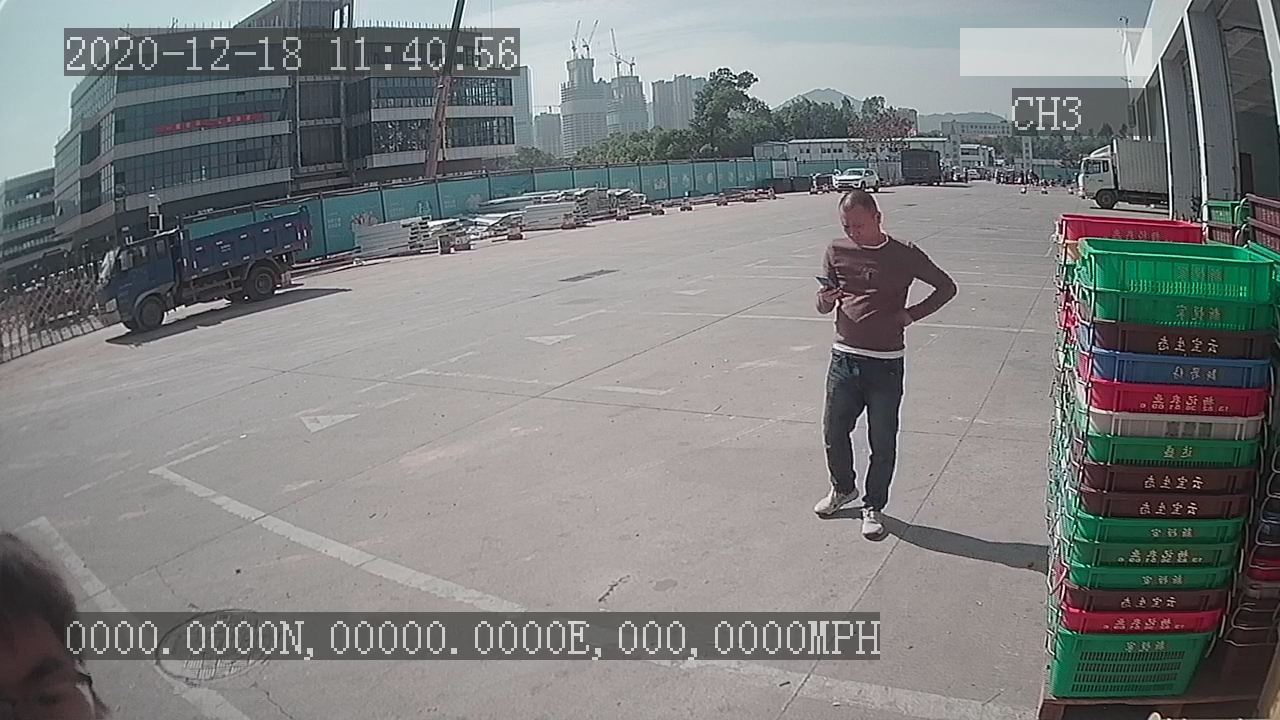person: (811, 189, 956, 540)
